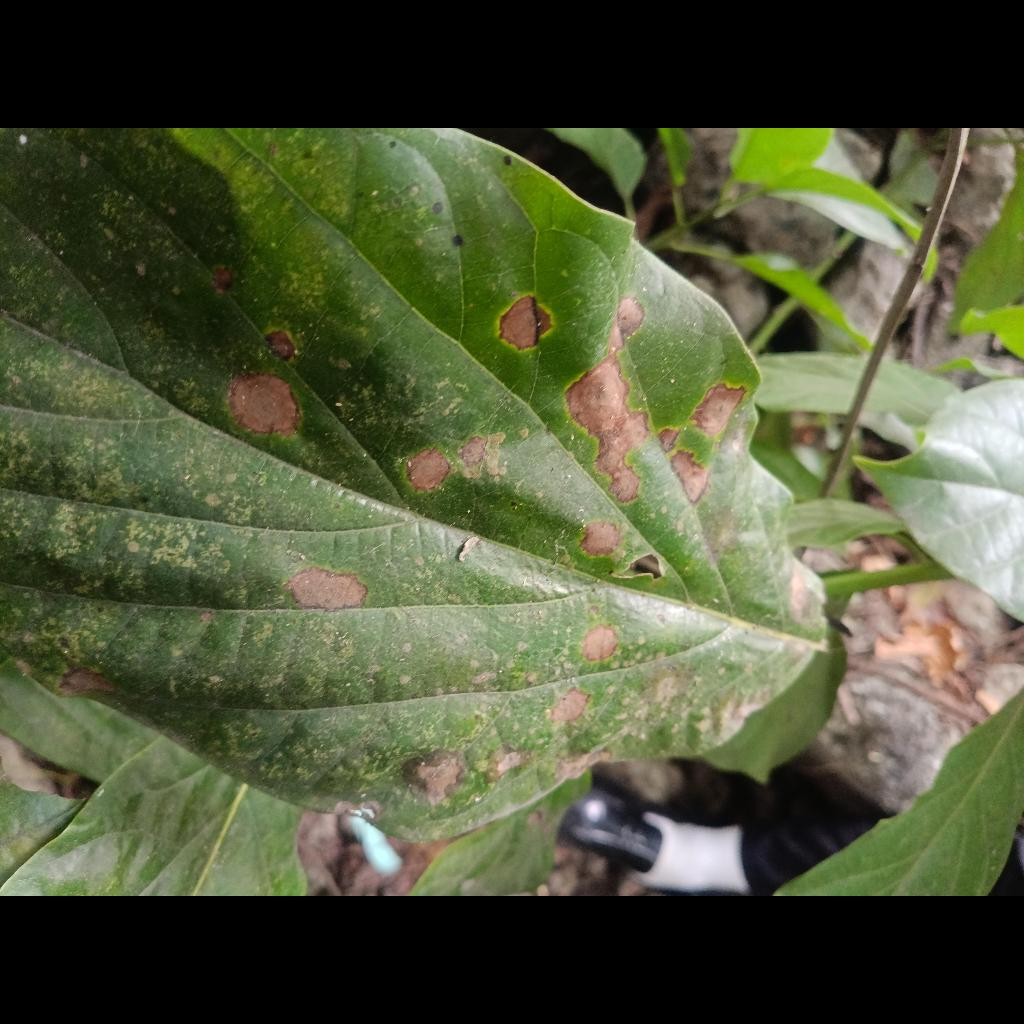antracnosis_hoja: (0, 128, 833, 839)
